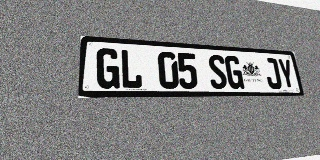0: (157, 51, 179, 89)
5: (177, 52, 198, 89)
G: (96, 48, 120, 89), (224, 55, 245, 89)
J: (263, 58, 283, 89)
L: (120, 49, 143, 89)
S: (207, 54, 228, 89)
Y: (277, 58, 296, 89)
